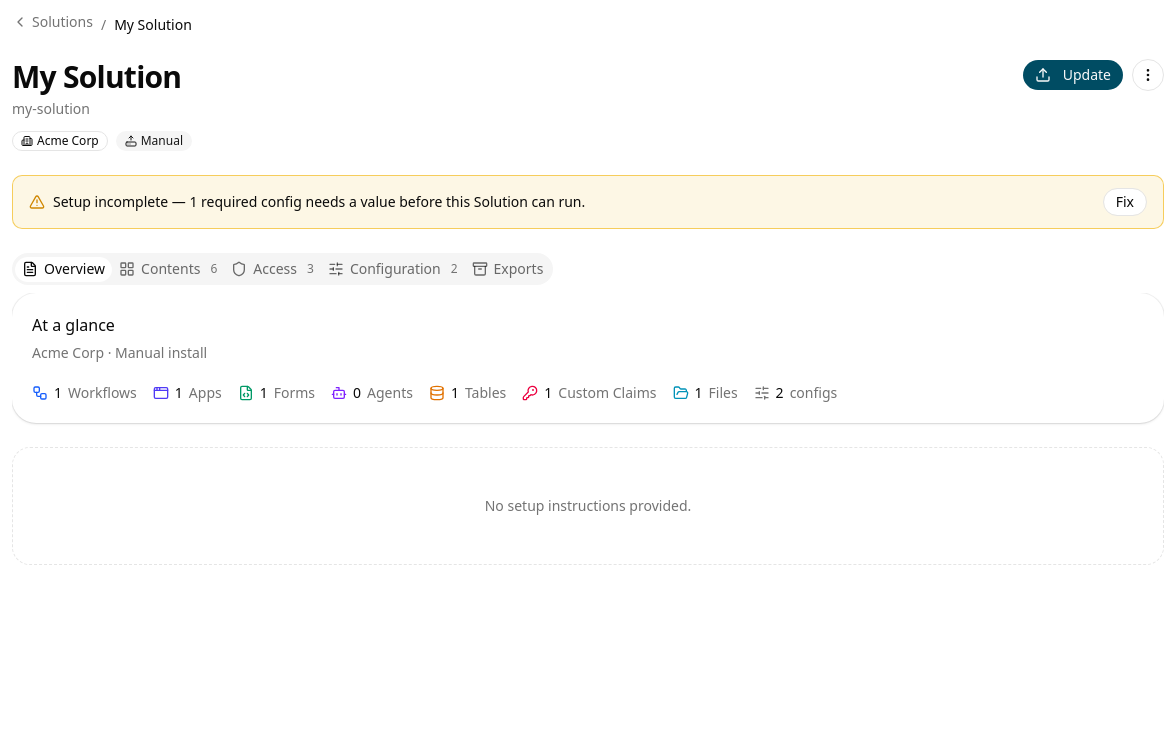
it: SolutionDetail › renders a Files chip in Contents when the install has files
Click the tab with test id "tab-contents" at (168, 269), box [112, 256, 224, 282]
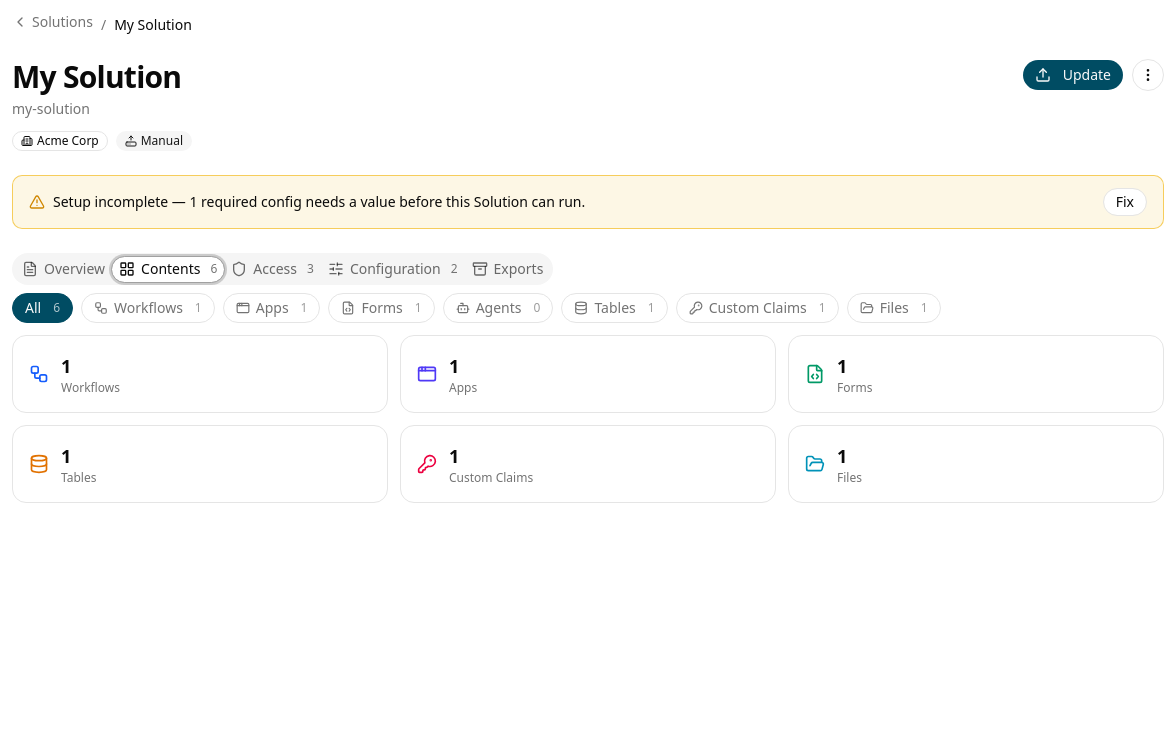
Now the button with test id "chip-files" shows "Files", box [847, 293, 941, 323]
Now the button with test id "chip-files" shows "1", box [847, 293, 941, 323]
